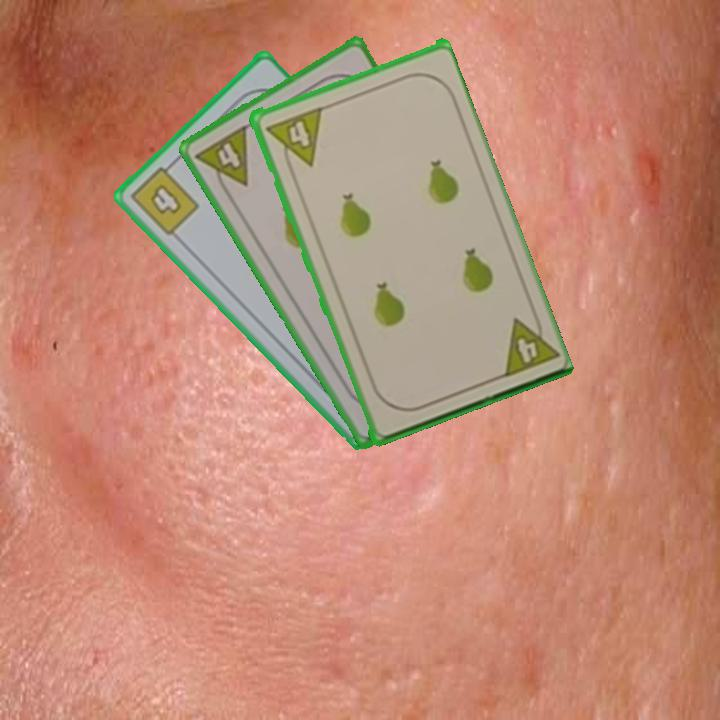4b: (126, 157, 202, 239)
4p: (191, 121, 251, 200), (496, 307, 559, 381), (261, 103, 325, 175)
